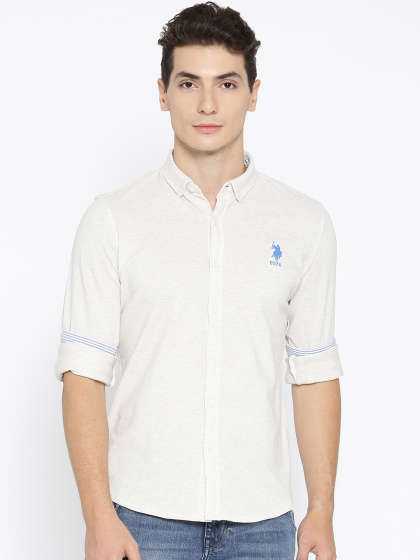NOTSAFE: (100, 2, 299, 531)
